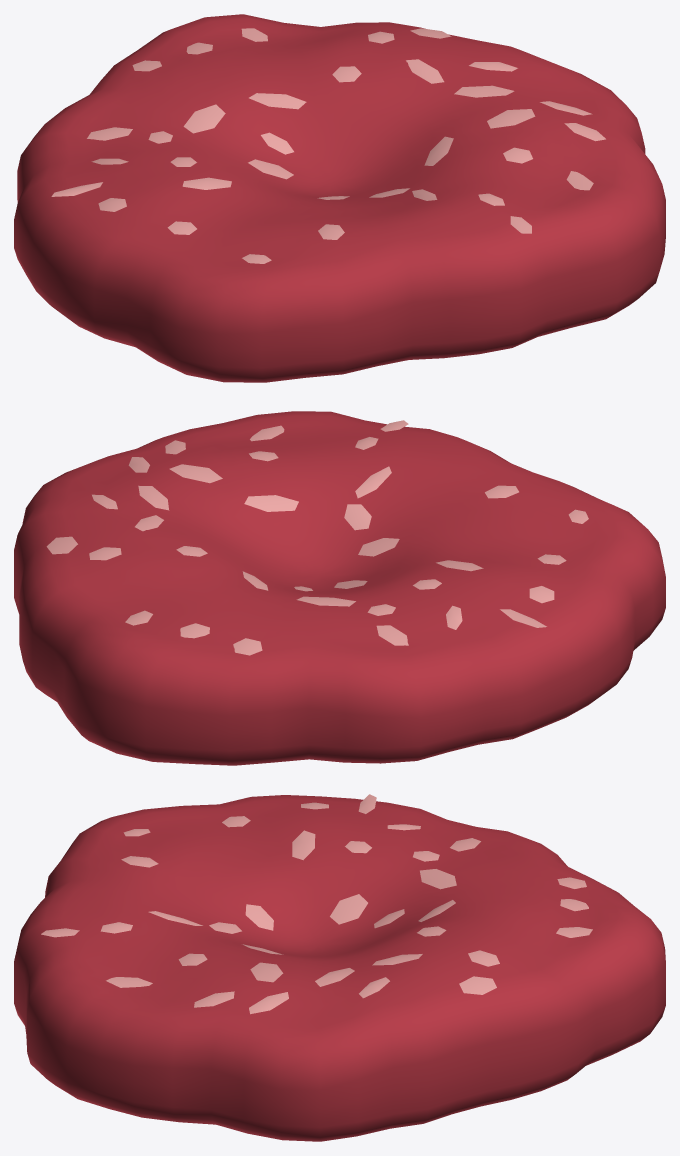
The model's file is patty_raw.glb.
3 renders of one model, top to bottom at view 1: azimuth 30°, elevation 25°; view 2: azimuth 150°, elevation 25°; view 3: azimuth 270°, elevation 25°, orthographic. The views are drawn at different scales.
Parts seen in each view (by area): view 1: PattyRaw; view 2: PattyRaw; view 3: PattyRaw.
Boxes of the visible parts, x1=… form: PattyRaw: x1=14, y1=14, x2=665, y2=382; PattyRaw: x1=14, y1=411, x2=665, y2=765; PattyRaw: x1=14, y1=794, x2=665, y2=1141.
Size of the model in its own units: 3 by 0.6 by 3.
